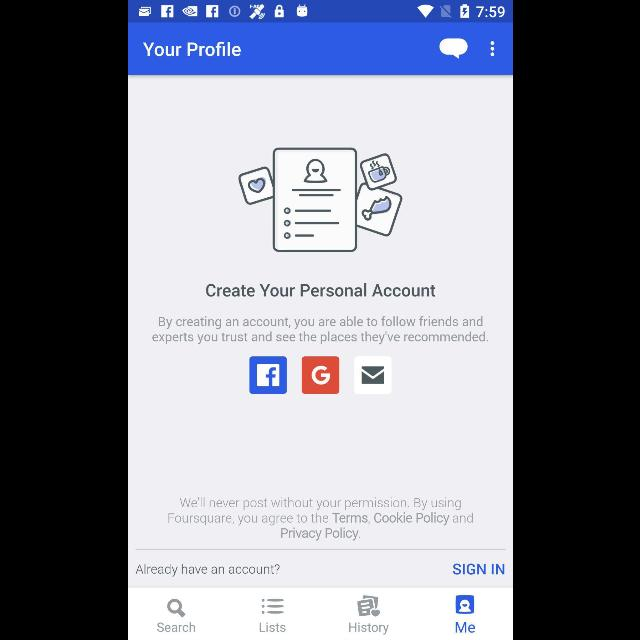icon: (301, 356, 339, 394), (354, 356, 391, 394), (250, 356, 286, 394), (438, 39, 468, 60), (356, 595, 379, 617), (167, 598, 186, 618), (261, 598, 283, 614), (490, 41, 494, 57)
image: (238, 148, 402, 252), (454, 594, 474, 614)
text: (168, 497, 472, 541), (151, 316, 487, 344), (206, 283, 434, 297), (135, 564, 279, 576), (142, 41, 240, 57), (452, 563, 504, 575), (348, 622, 388, 634), (157, 622, 195, 632), (259, 622, 285, 632), (455, 622, 475, 632)
toolbar: (128, 23, 512, 75)
uppertaskbar: (128, 1, 512, 23)
